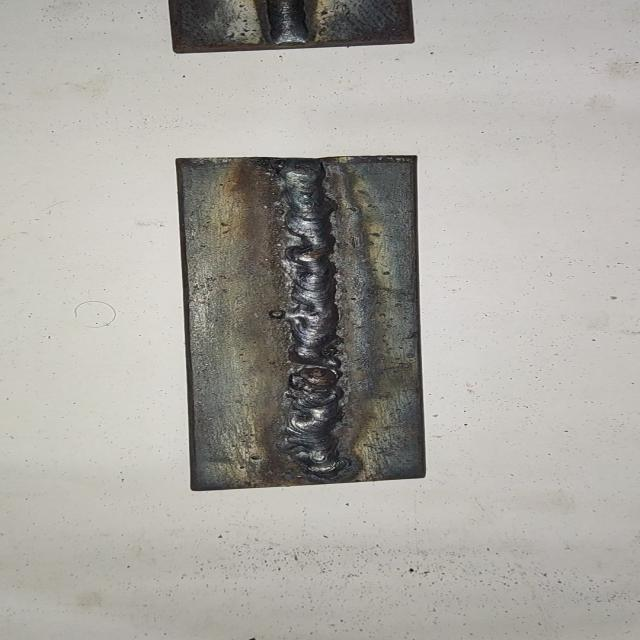Bad Weld: (280, 161, 347, 477)
Defect: (273, 347, 363, 390)
